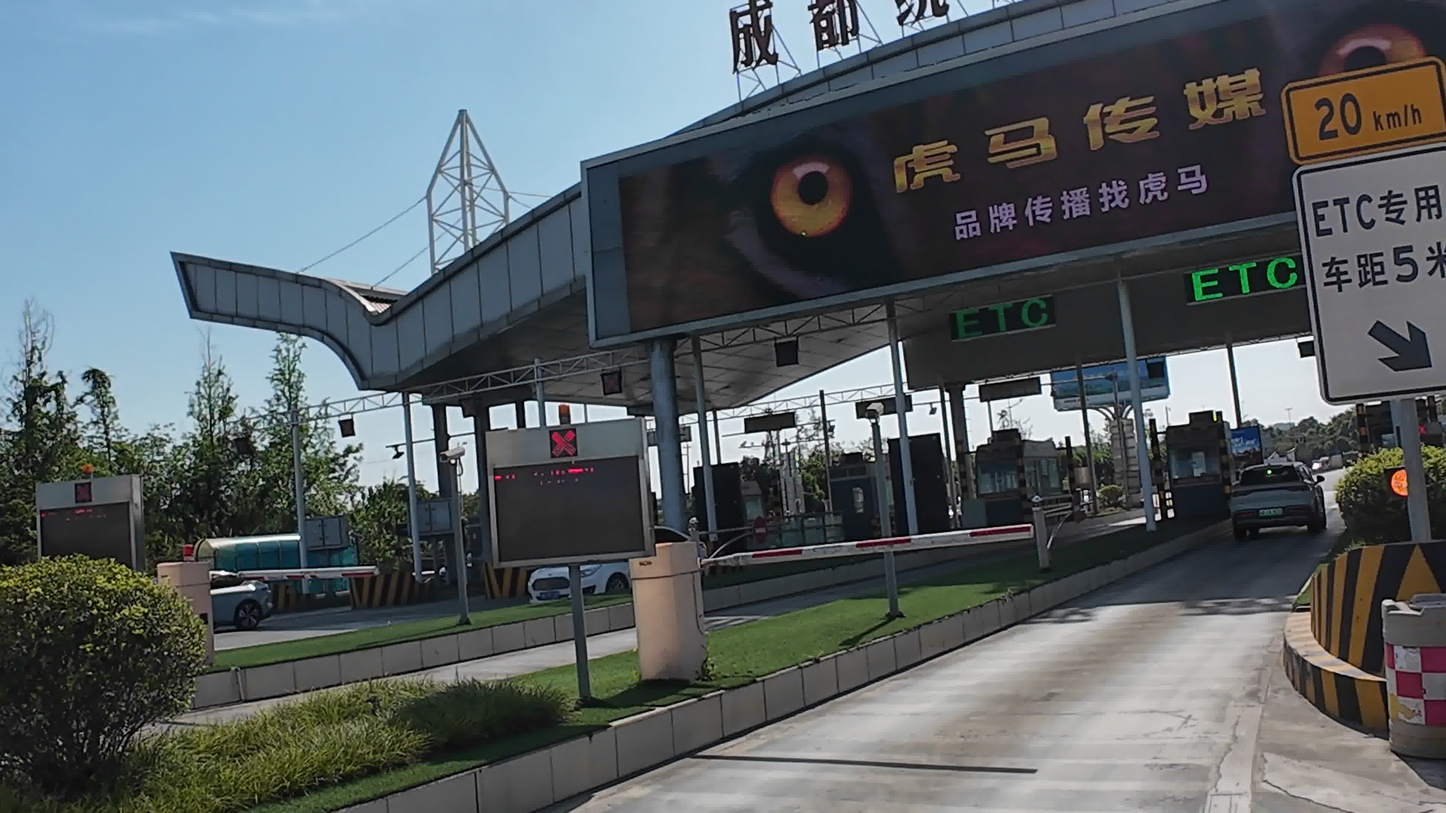anti_collision_bucket: (1389, 579, 1446, 721)
led_screen: (594, 0, 1446, 344), (478, 418, 647, 573), (41, 465, 147, 590), (1177, 243, 1304, 313), (1218, 408, 1292, 497), (953, 292, 1038, 356), (778, 325, 822, 371)
roadside_plant: (0, 566, 567, 813), (1293, 45, 1446, 403), (16, 370, 289, 532), (1322, 454, 1446, 565)
toll_booth: (800, 439, 939, 549), (1146, 385, 1232, 549), (968, 426, 1055, 545), (683, 453, 756, 532)
